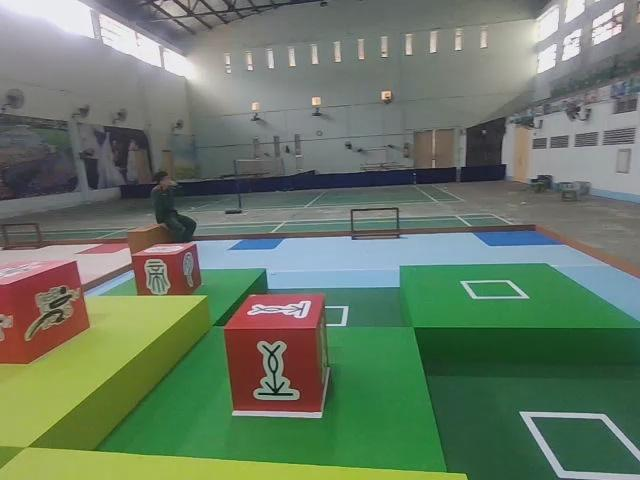R1: (0, 256, 92, 366)
R2 Fake: (129, 240, 203, 298)
R2 Real: (224, 290, 332, 415)
